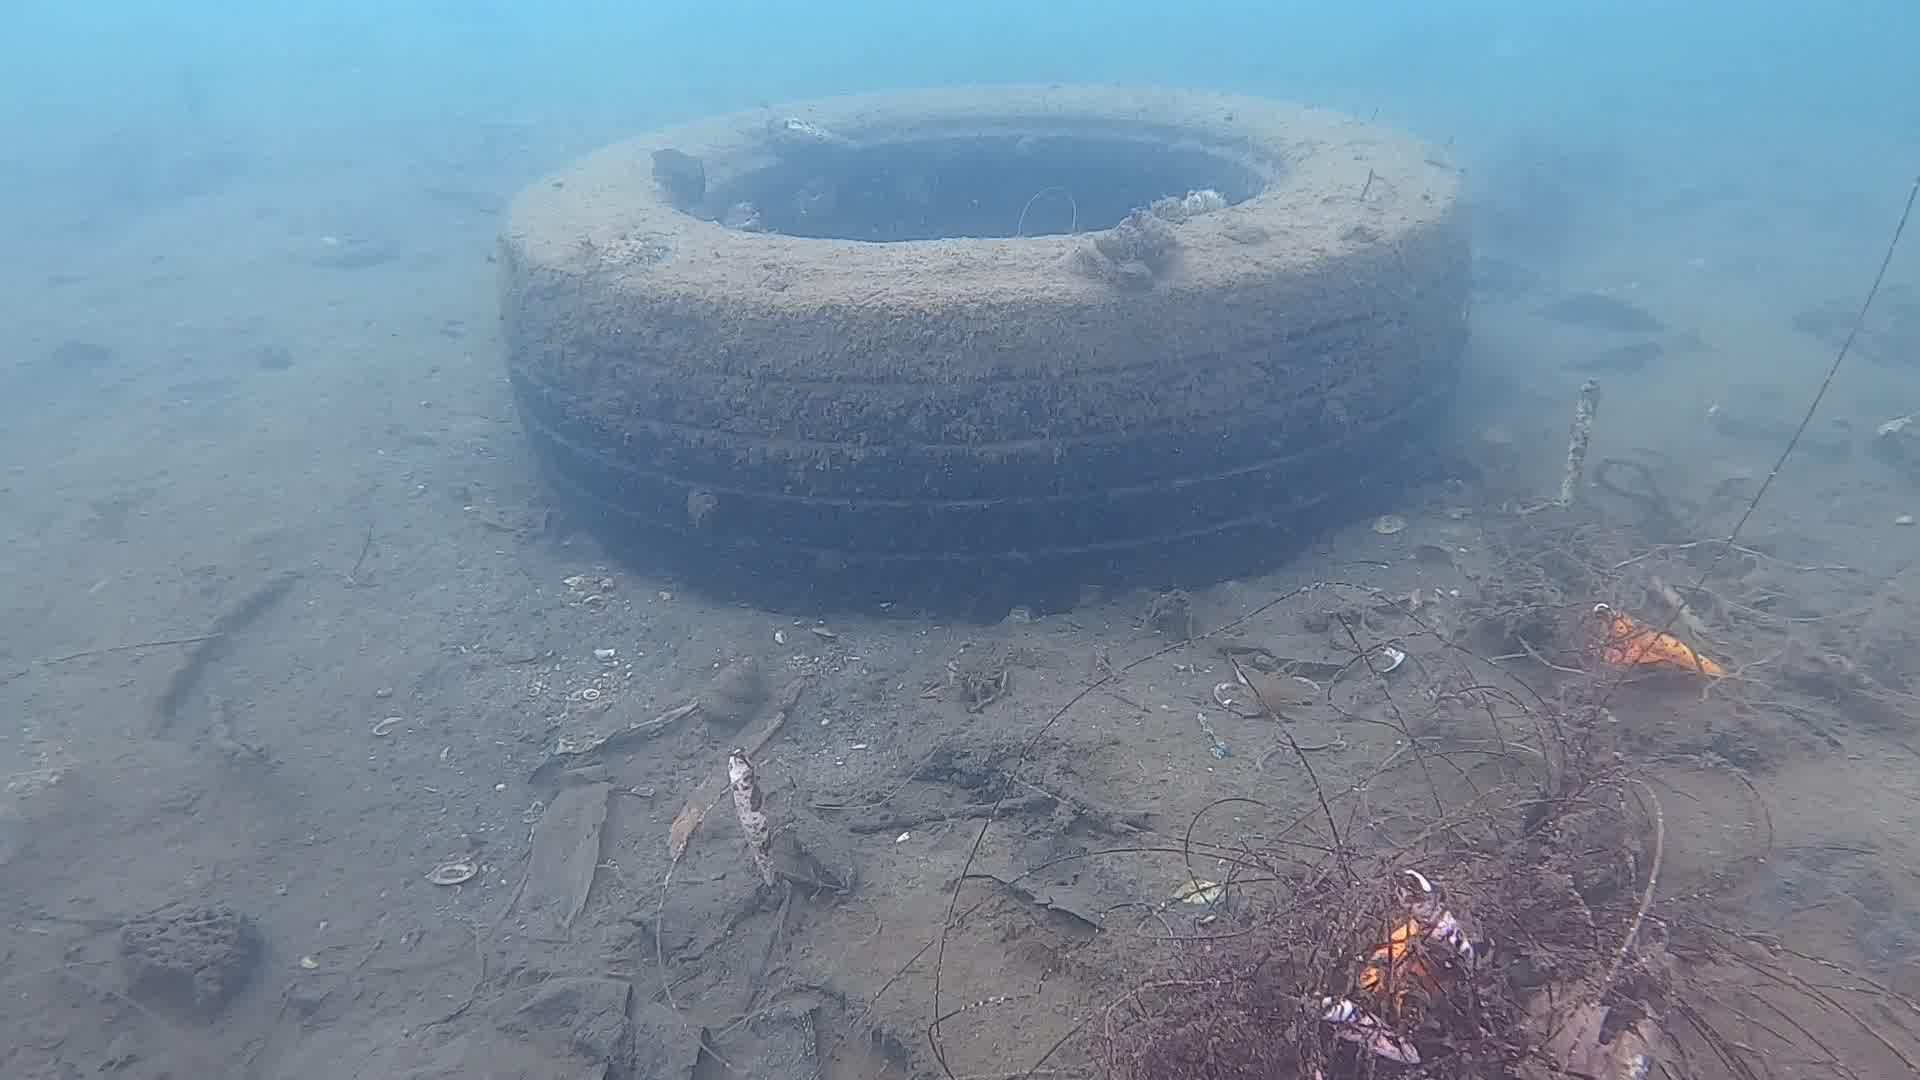tire: (497, 73, 1466, 608)
